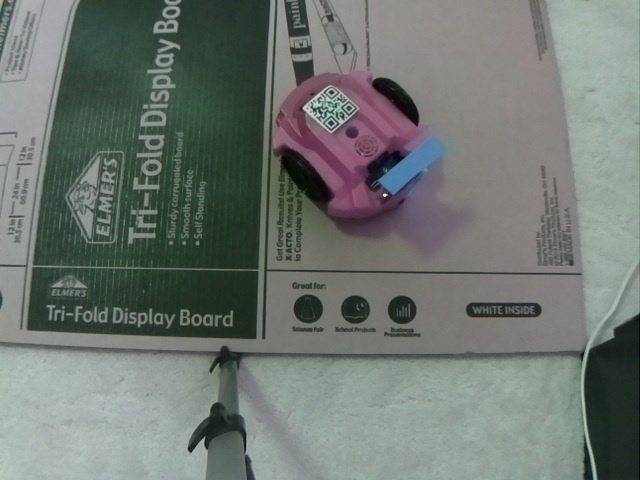chassis: (263, 66, 449, 223)
qr: (301, 81, 361, 134)
